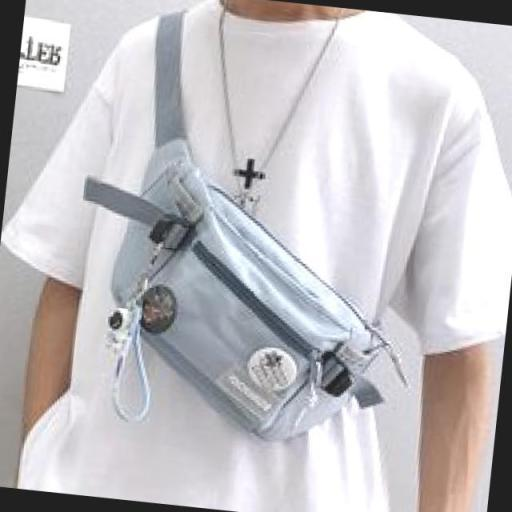bag: (84, 138, 399, 447)
